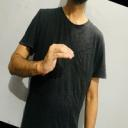hand: (38, 42, 74, 74)
